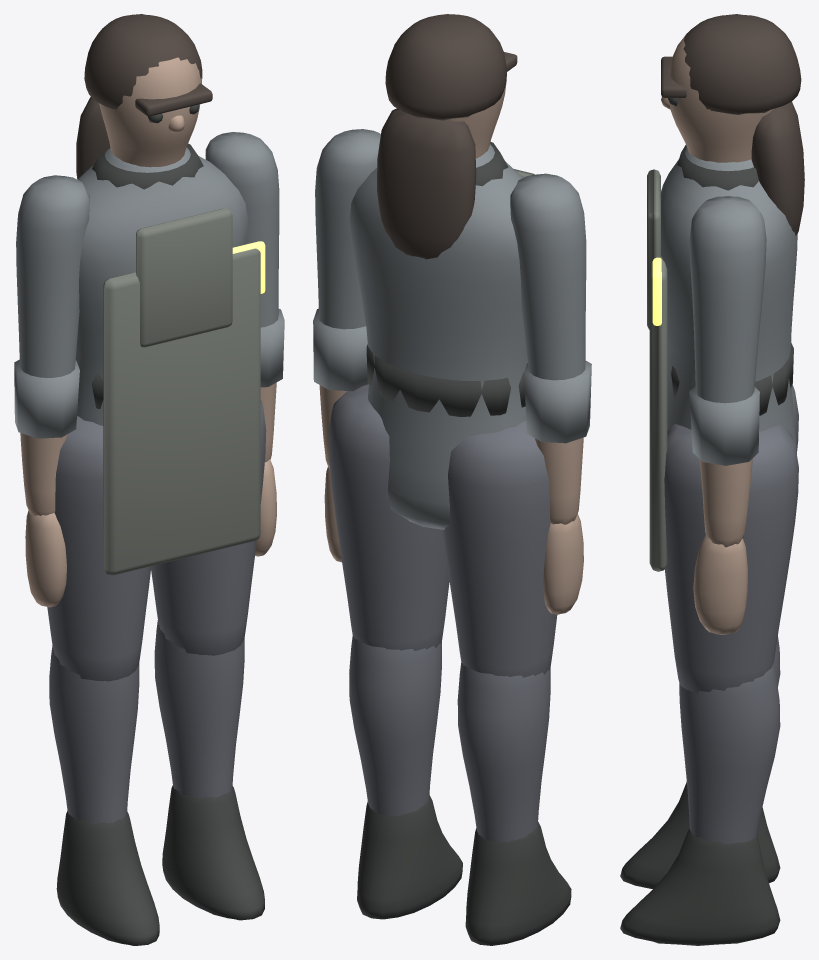
The model's file is resident_still_e_v5.glb.
3 views of the same model, side by side, from view 1: azimuth 30°, elevation 25°; view 2: azimuth 150°, elevation 25°; view 3: azimuth 270°, elevation 25° (orthographic). The views are drawn at different scales.
Parts seen in each view (by area): view 1: HabResidentStill; view 2: HabResidentStill; view 3: HabResidentStill.
Boxes of the visible parts, box(x1,y1,x2,y2) form: HabResidentStill: box(14, 14, 284, 945); HabResidentStill: box(313, 14, 591, 945); HabResidentStill: box(620, 14, 804, 945).
Size of the model in its own units: 0.5346 by 1.7 by 0.3201.
